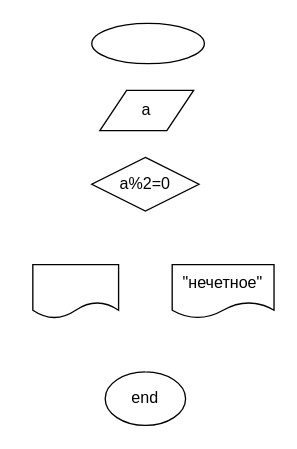
This 297x449 diagram has some shape labels left out. Here are the shapes that lost their labels. From the top down, the box of each, then its label:
(90, 22, 204, 64): start
(31, 263, 119, 318): "четное"
